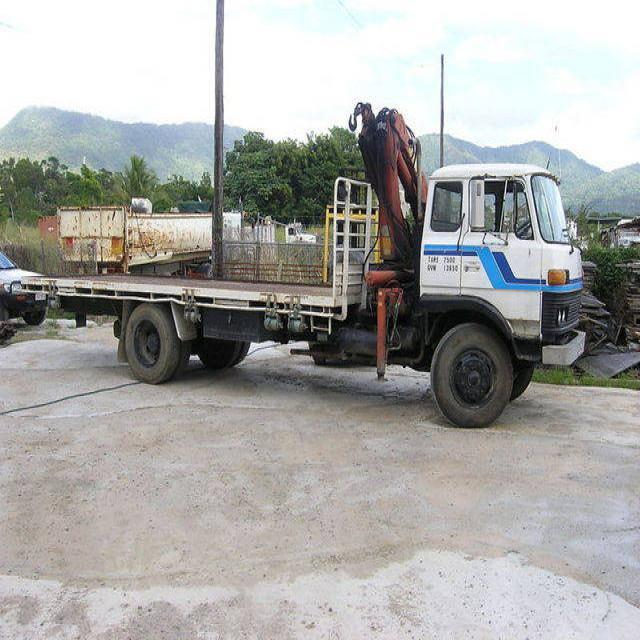truck: (18, 94, 584, 426)
